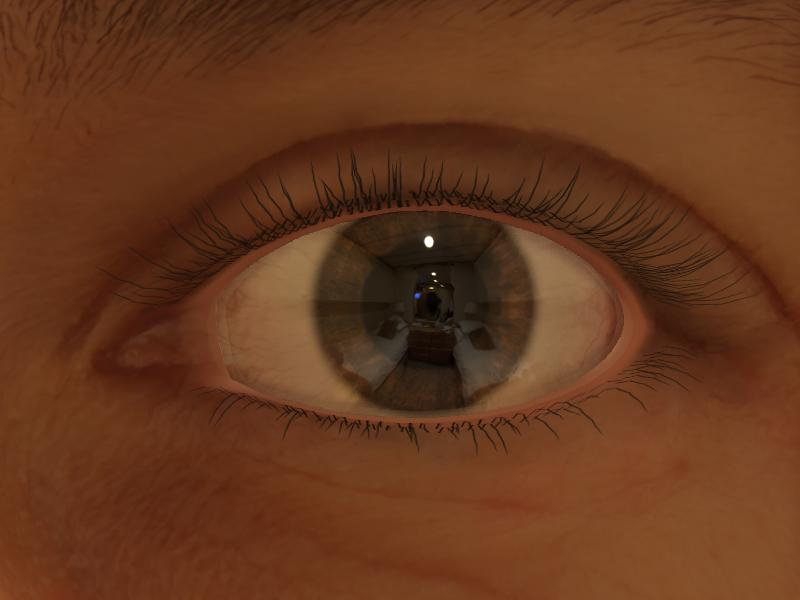eye: (316, 213, 539, 413)
